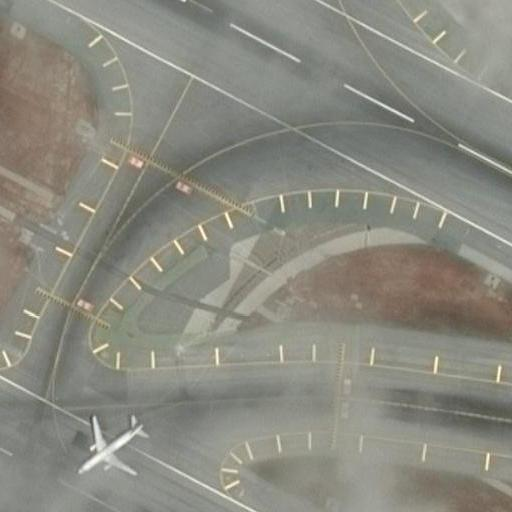Aircraft: (67, 413, 153, 482)
